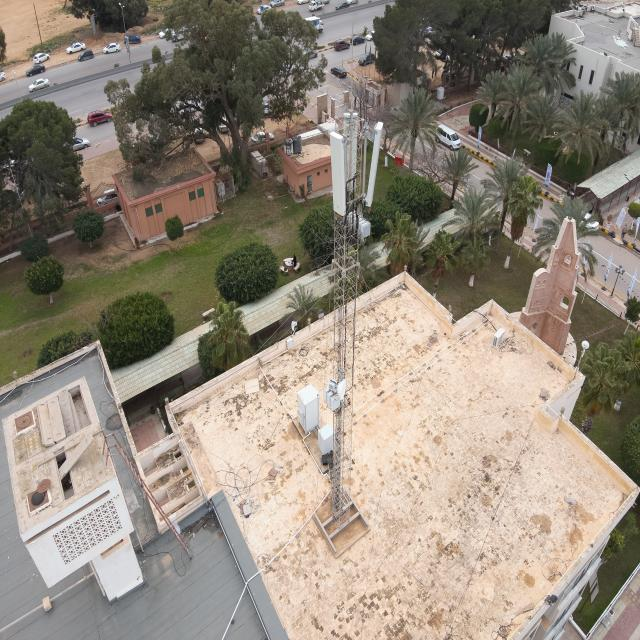antenna: (364, 120, 384, 210), (329, 130, 347, 218), (342, 112, 359, 194)
lighnig-rad: (350, 20, 354, 111)
microware-dish: (327, 376, 349, 400)
power-box: (324, 385, 341, 411)
radio-unit: (347, 209, 372, 239)
